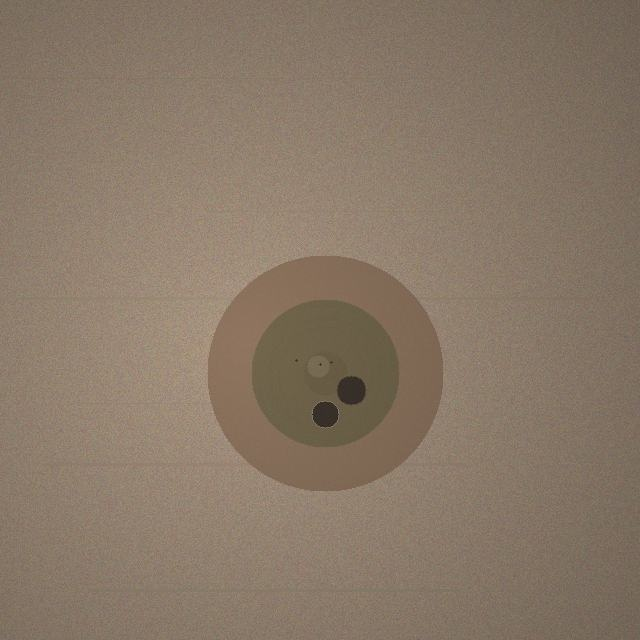shrinkage: (207, 255, 443, 491)
